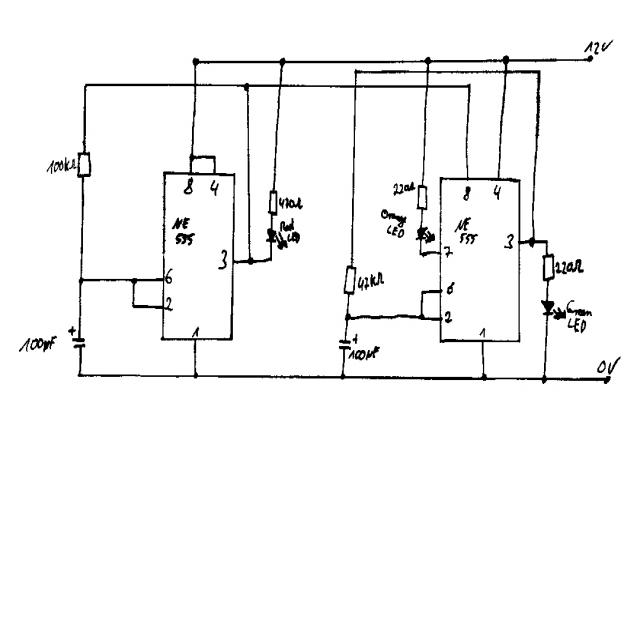capacitor: (68, 326, 87, 350), (337, 333, 358, 351)
crossover: (277, 81, 284, 89), (424, 82, 430, 91), (353, 82, 359, 91), (424, 68, 431, 75), (193, 81, 199, 89), (503, 67, 508, 76)
diode: (540, 299, 567, 321), (266, 228, 288, 250), (415, 226, 436, 244)
junction: (528, 235, 536, 248), (243, 81, 251, 92), (424, 56, 432, 66), (130, 276, 138, 286), (503, 55, 510, 66), (541, 374, 548, 385), (192, 57, 200, 66), (344, 312, 351, 322), (76, 371, 84, 379), (247, 256, 254, 265), (279, 58, 286, 67), (82, 81, 89, 90), (78, 277, 85, 286), (193, 371, 200, 380), (481, 373, 488, 382), (418, 313, 425, 322), (418, 250, 425, 258), (189, 153, 195, 162), (466, 81, 472, 90), (131, 302, 137, 311), (353, 68, 360, 75), (340, 373, 346, 381), (535, 68, 541, 75), (543, 238, 549, 245), (268, 254, 273, 262), (212, 153, 217, 160), (420, 289, 425, 296)
resistor: (343, 264, 357, 296), (77, 150, 92, 179), (542, 252, 555, 283), (416, 183, 429, 213), (267, 189, 278, 216)
terminal: (603, 375, 612, 386), (586, 55, 594, 63)
text: (566, 299, 593, 333), (380, 208, 408, 239), (171, 216, 196, 247), (18, 336, 57, 354), (454, 216, 478, 245), (46, 156, 77, 175), (279, 218, 300, 246), (357, 271, 385, 292), (348, 345, 380, 361), (584, 38, 614, 55), (555, 258, 584, 275), (597, 356, 621, 375), (393, 181, 415, 196), (279, 197, 303, 209), (217, 249, 228, 270), (183, 177, 194, 195), (493, 183, 503, 200), (504, 233, 514, 250), (210, 179, 219, 196), (165, 268, 174, 284), (165, 296, 174, 312), (462, 185, 471, 201), (443, 245, 453, 258), (446, 281, 455, 295), (444, 311, 453, 324), (191, 326, 200, 337), (479, 326, 486, 339)
